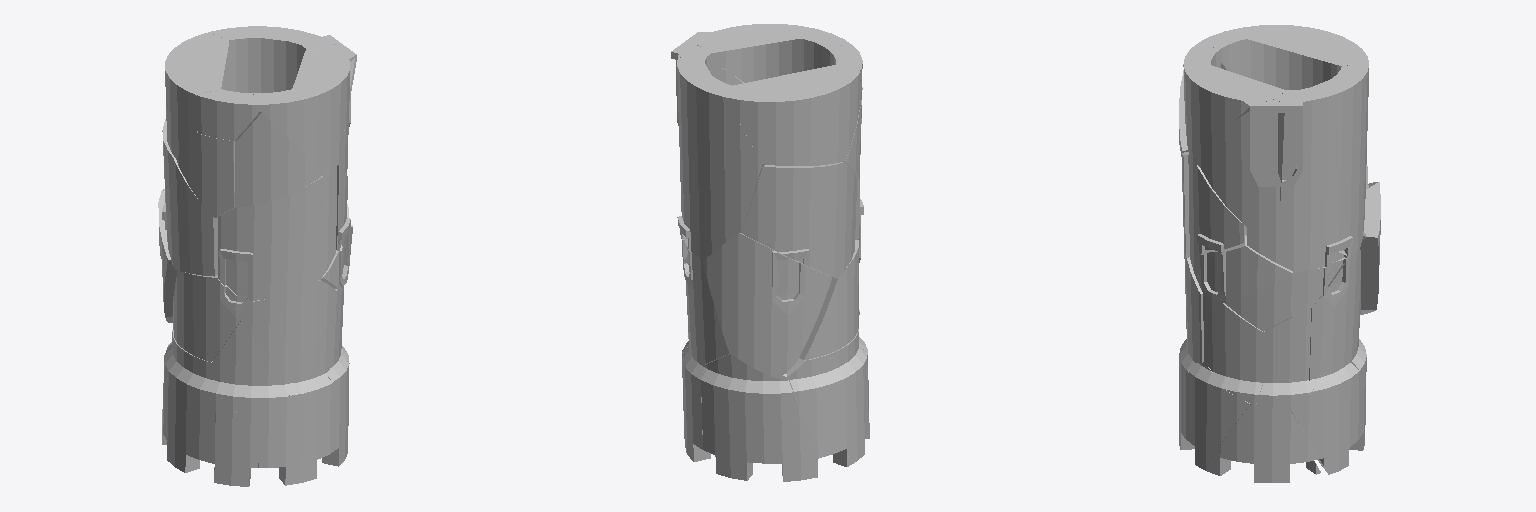
The model's file is destruction_tower_000013.obj.
The picture shows the model from 3 angles: view 1: azimuth 30°, elevation 25°; view 2: azimuth 150°, elevation 25°; view 3: azimuth 270°, elevation 25°; orthographic projection.
Parts seen in each view (by area): view 1: tower.001_cell.024_Mesh.024, tower.001_cell.028_Mesh.028, tower.001_cell.021_Mesh.021, tower.001_cell.006_Mesh.006, tower.001_cell.011_Mesh.011, tower.001_cell.002_Mesh.002, tower.001_cell.013_Mesh.013, tower.001_cell.015_Mesh.015, tower.001_cell.003_Mesh.003, tower.001_cell.009_Mesh.009, tower.001_cell.017_Mesh.017, tower.001_cell.014_Mesh.014 (+10 smaller); view 2: tower.001_cell.025_Mesh.025, tower.001_cell.017_Mesh.017, tower.001_cell.007_Mesh.007, tower.001_cell.015_Mesh.015, tower.001_cell.003_Mesh.003, tower.001_cell.028_Mesh.028, tower.001_cell.005_Mesh.005, tower.001_cell.009_Mesh.009, tower.001_cell.012_Mesh.012, tower.001_cell.029_Mesh.029, tower.001_cell.006_Mesh.006, tower.001_cell.026_Mesh.026 (+2 smaller); view 3: tower.001_cell.017_Mesh.017, tower.001_cell.020_Mesh.020, tower.001_cell.015_Mesh.015, tower.001_cell.028_Mesh.028, tower.001_cell.030_Mesh.030, tower.001_cell.012_Mesh.012, tower.001_cell.029_Mesh.029, tower.001_cell_Mesh, tower.001_cell.016_Mesh.016, tower.001_cell.010_Mesh.010, tower.001_cell.023_Mesh.023, tower.001_cell.026_Mesh.026 (+10 smaller).
Boxes of the visible parts, <box> form: tower.001_cell.024_Mesh.024: <box>218,176,322,301</box>; tower.001_cell.028_Mesh.028: <box>253,48,356,171</box>; tower.001_cell.021_Mesh.021: <box>241,280,337,385</box>; tower.001_cell.006_Mesh.006: <box>166,389,258,486</box>; tower.001_cell.011_Mesh.011: <box>258,376,332,485</box>; tower.001_cell.002_Mesh.002: <box>235,112,322,207</box>; tower.001_cell.013_Mesh.013: <box>210,321,293,433</box>; tower.001_cell.015_Mesh.015: <box>165,33,228,158</box>; tower.001_cell.003_Mesh.003: <box>162,119,217,276</box>; tower.001_cell.009_Mesh.009: <box>173,271,241,361</box>; tower.001_cell.017_Mesh.017: <box>208,26,314,192</box>; tower.001_cell.014_Mesh.014: <box>176,133,233,217</box>; tower.001_cell.025_Mesh.025: <box>702,233,831,378</box>; tower.001_cell.017_Mesh.017: <box>677,57,764,259</box>; tower.001_cell.007_Mesh.007: <box>701,354,819,481</box>; tower.001_cell.015_Mesh.015: <box>727,65,860,165</box>; tower.001_cell.003_Mesh.003: <box>742,162,856,278</box>; tower.001_cell.028_Mesh.028: <box>697,24,847,82</box>; tower.001_cell.005_Mesh.005: <box>787,329,867,457</box>; tower.001_cell.009_Mesh.009: <box>799,240,860,359</box>; tower.001_cell.012_Mesh.012: <box>683,252,730,364</box>; tower.001_cell.029_Mesh.029: <box>682,353,707,461</box>; tower.001_cell.006_Mesh.006: <box>833,350,869,466</box>; tower.001_cell.026_Mesh.026: <box>671,45,721,125</box>; tower.001_cell.017_Mesh.017: <box>1310,63,1368,257</box>; tower.001_cell.020_Mesh.020: <box>1197,99,1284,226</box>; tower.001_cell.015_Mesh.015: <box>1247,25,1368,89</box>; tower.001_cell.028_Mesh.028: <box>1183,46,1285,156</box>; tower.001_cell.030_Mesh.030: <box>1205,403,1318,482</box>; tower.001_cell.012_Mesh.012: <box>1309,248,1360,388</box>; tower.001_cell.029_Mesh.029: <box>1290,360,1359,474</box>; tower.001_cell_Mesh: <box>1203,294,1264,403</box>; tower.001_cell.016_Mesh.016: <box>1259,308,1313,408</box>; tower.001_cell.010_Mesh.010: <box>1191,235,1292,302</box>; tower.001_cell.023_Mesh.023: <box>1188,362,1250,469</box>; tower.001_cell.026_Mesh.026: <box>1277,88,1309,226</box>.
Bounding box in the file's own units: 45.41 × 97.38 × 46.68.